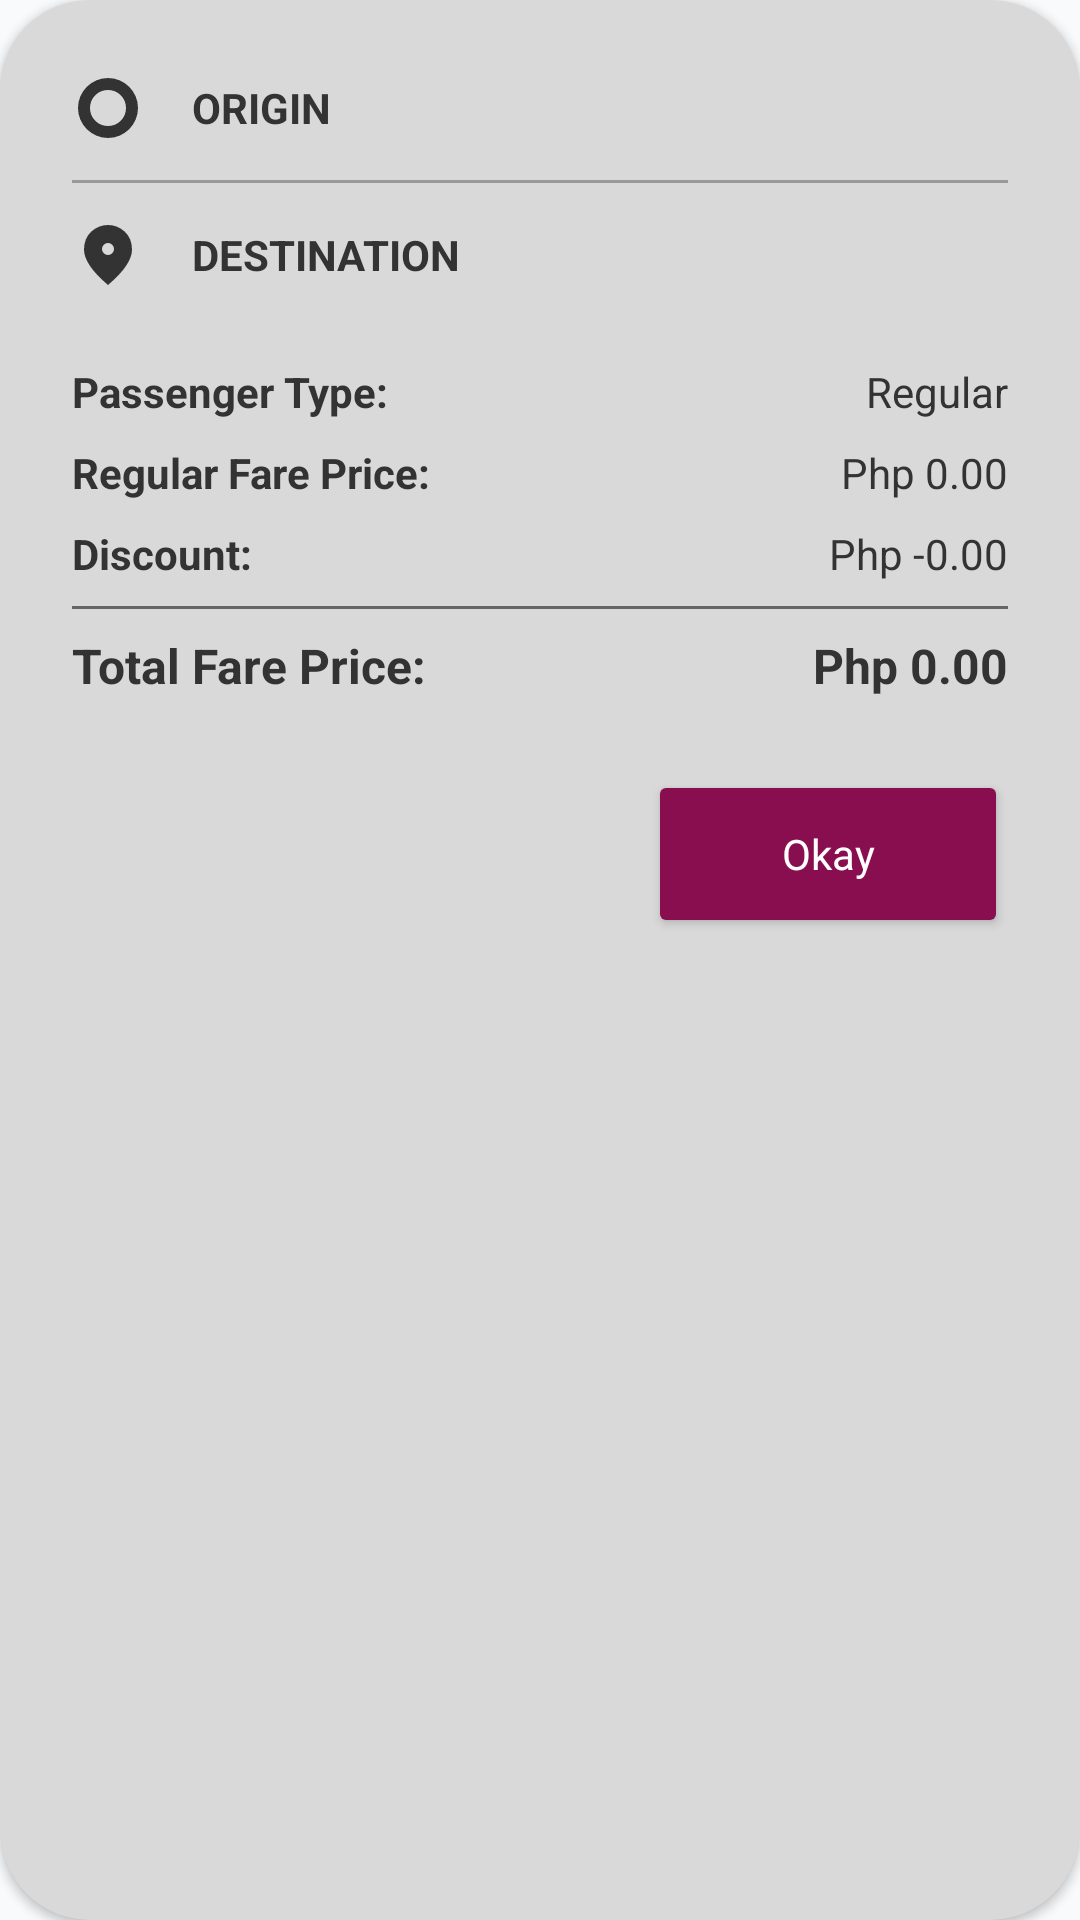

Where icons sit on this 1080 x 1920 app screen, as (x1=x1, y1=y1, x2=x2, y2=y2):
location on: (x1=84, y1=225, x2=132, y2=285)
